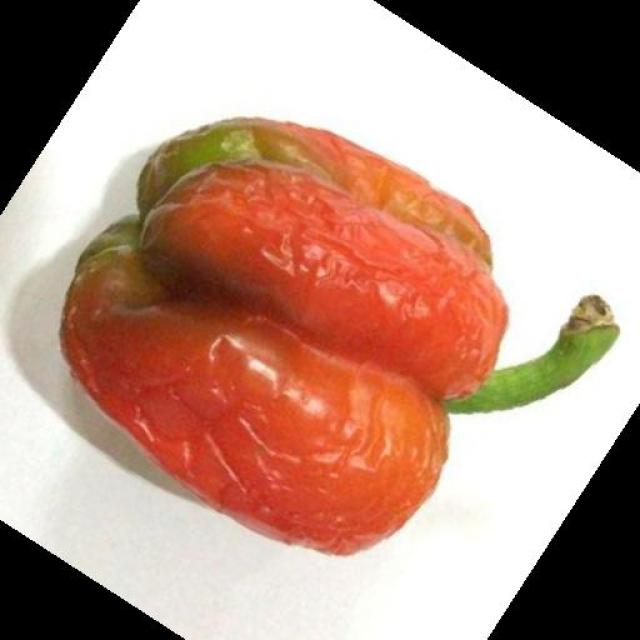Stale_Capsicum: (78, 100, 486, 584)
